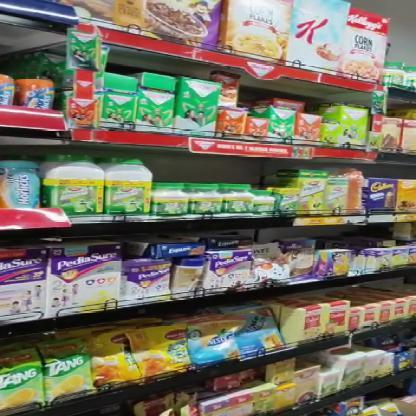Glucon D Nimbu Pani 1-KG: (340, 106, 370, 146)
Glucon D Regular 1-KG: (179, 81, 222, 134), (136, 89, 174, 131)
